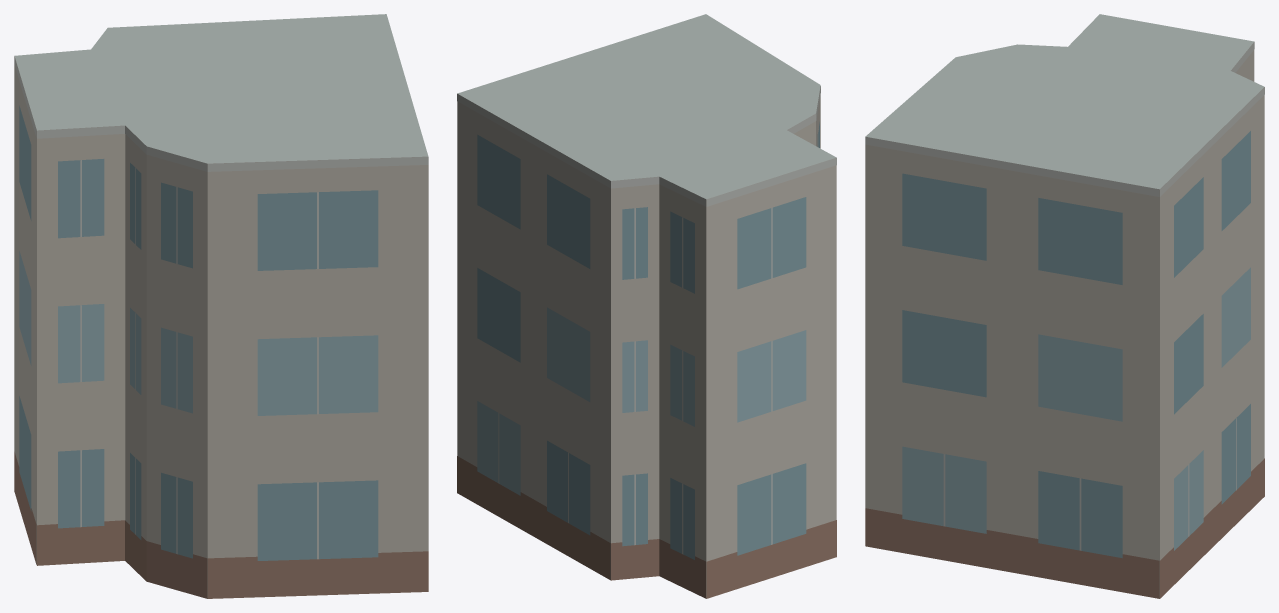
File: survey-upis-32933408.glb
The picture shows the model from 3 angles, left to right: view 1: azimuth 30°, elevation 25°; view 2: azimuth 150°, elevation 25°; view 3: azimuth 270°, elevation 25°; orthographic projection. The views are drawn at different scales.
Visible parts, largest first — view 1: survey-upis-32933408.tmp; view 2: survey-upis-32933408.tmp; view 3: survey-upis-32933408.tmp.
Part boxes in pixels (x1,y1,x2,y2): survey-upis-32933408.tmp: [14, 14, 428, 598]; survey-upis-32933408.tmp: [457, 14, 836, 598]; survey-upis-32933408.tmp: [865, 14, 1264, 598].
Bounding box in the file's own units: 11.76 × 12.8 × 11.33.
